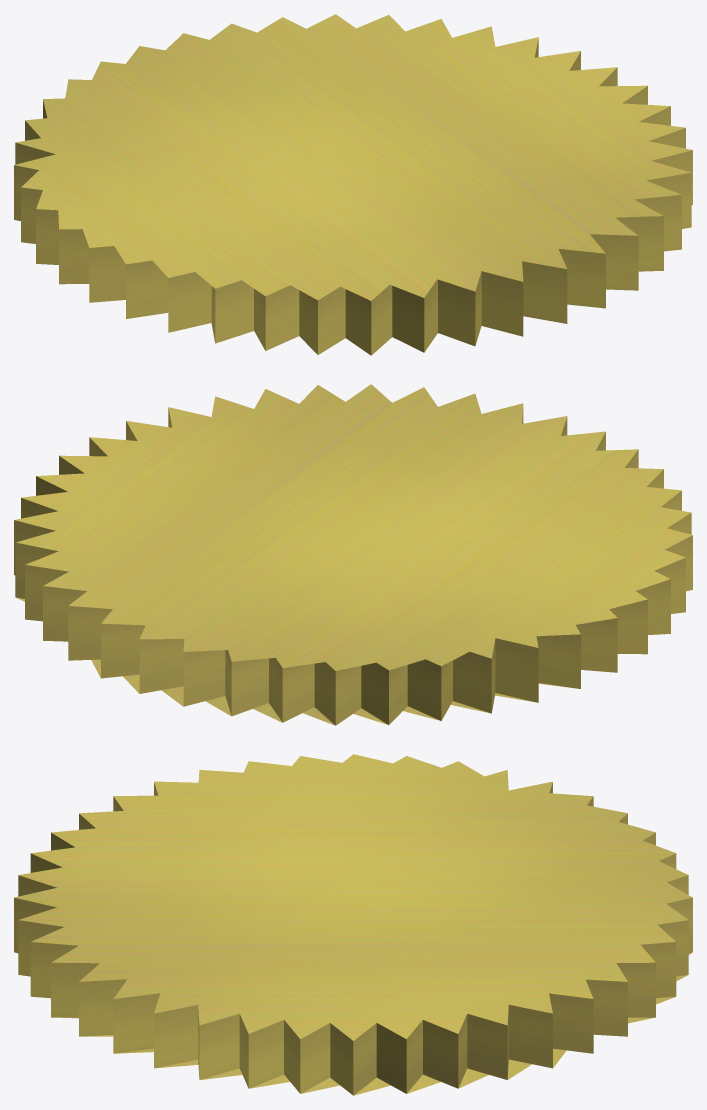
Rendered from ClockStraightFacet5Spoke040.fbx.
3 renders of one model, top to bottom at view 1: azimuth 30°, elevation 25°; view 2: azimuth 150°, elevation 25°; view 3: azimuth 270°, elevation 25°, orthographic.
Parts seen in each view (by area): view 1: ClockStraightFacet5Spoke040; view 2: ClockStraightFacet5Spoke040; view 3: ClockStraightFacet5Spoke040.
Boxes of the visible parts, bbox=[...] form: ClockStraightFacet5Spoke040: bbox=[14, 14, 692, 355]; ClockStraightFacet5Spoke040: bbox=[14, 384, 692, 725]; ClockStraightFacet5Spoke040: bbox=[14, 754, 692, 1095].
Bounding box in the file's own units: 221 × 19.69 × 221.
